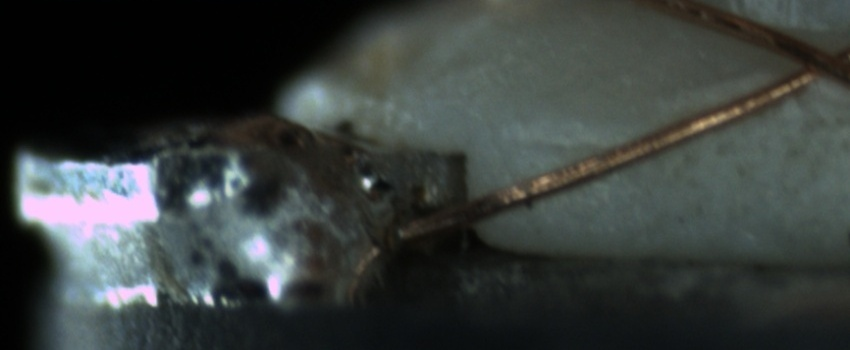CL: (770, 29, 849, 95)
DL: (498, 109, 639, 173)
